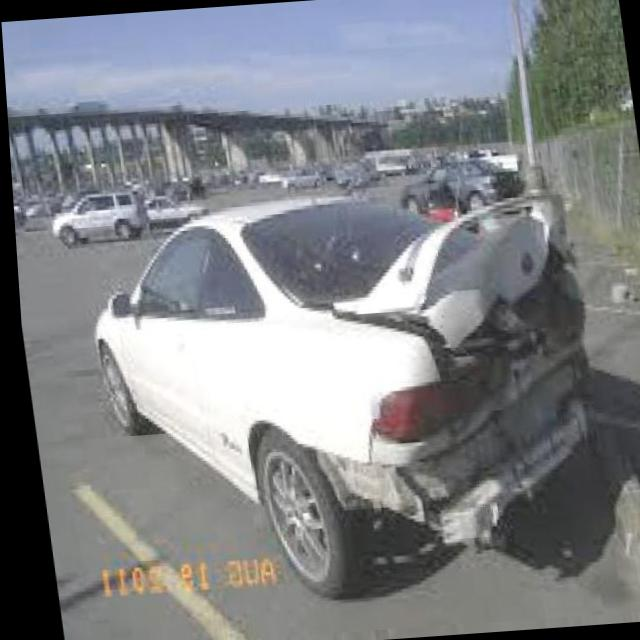Car-Damage: (259, 207, 607, 551)
